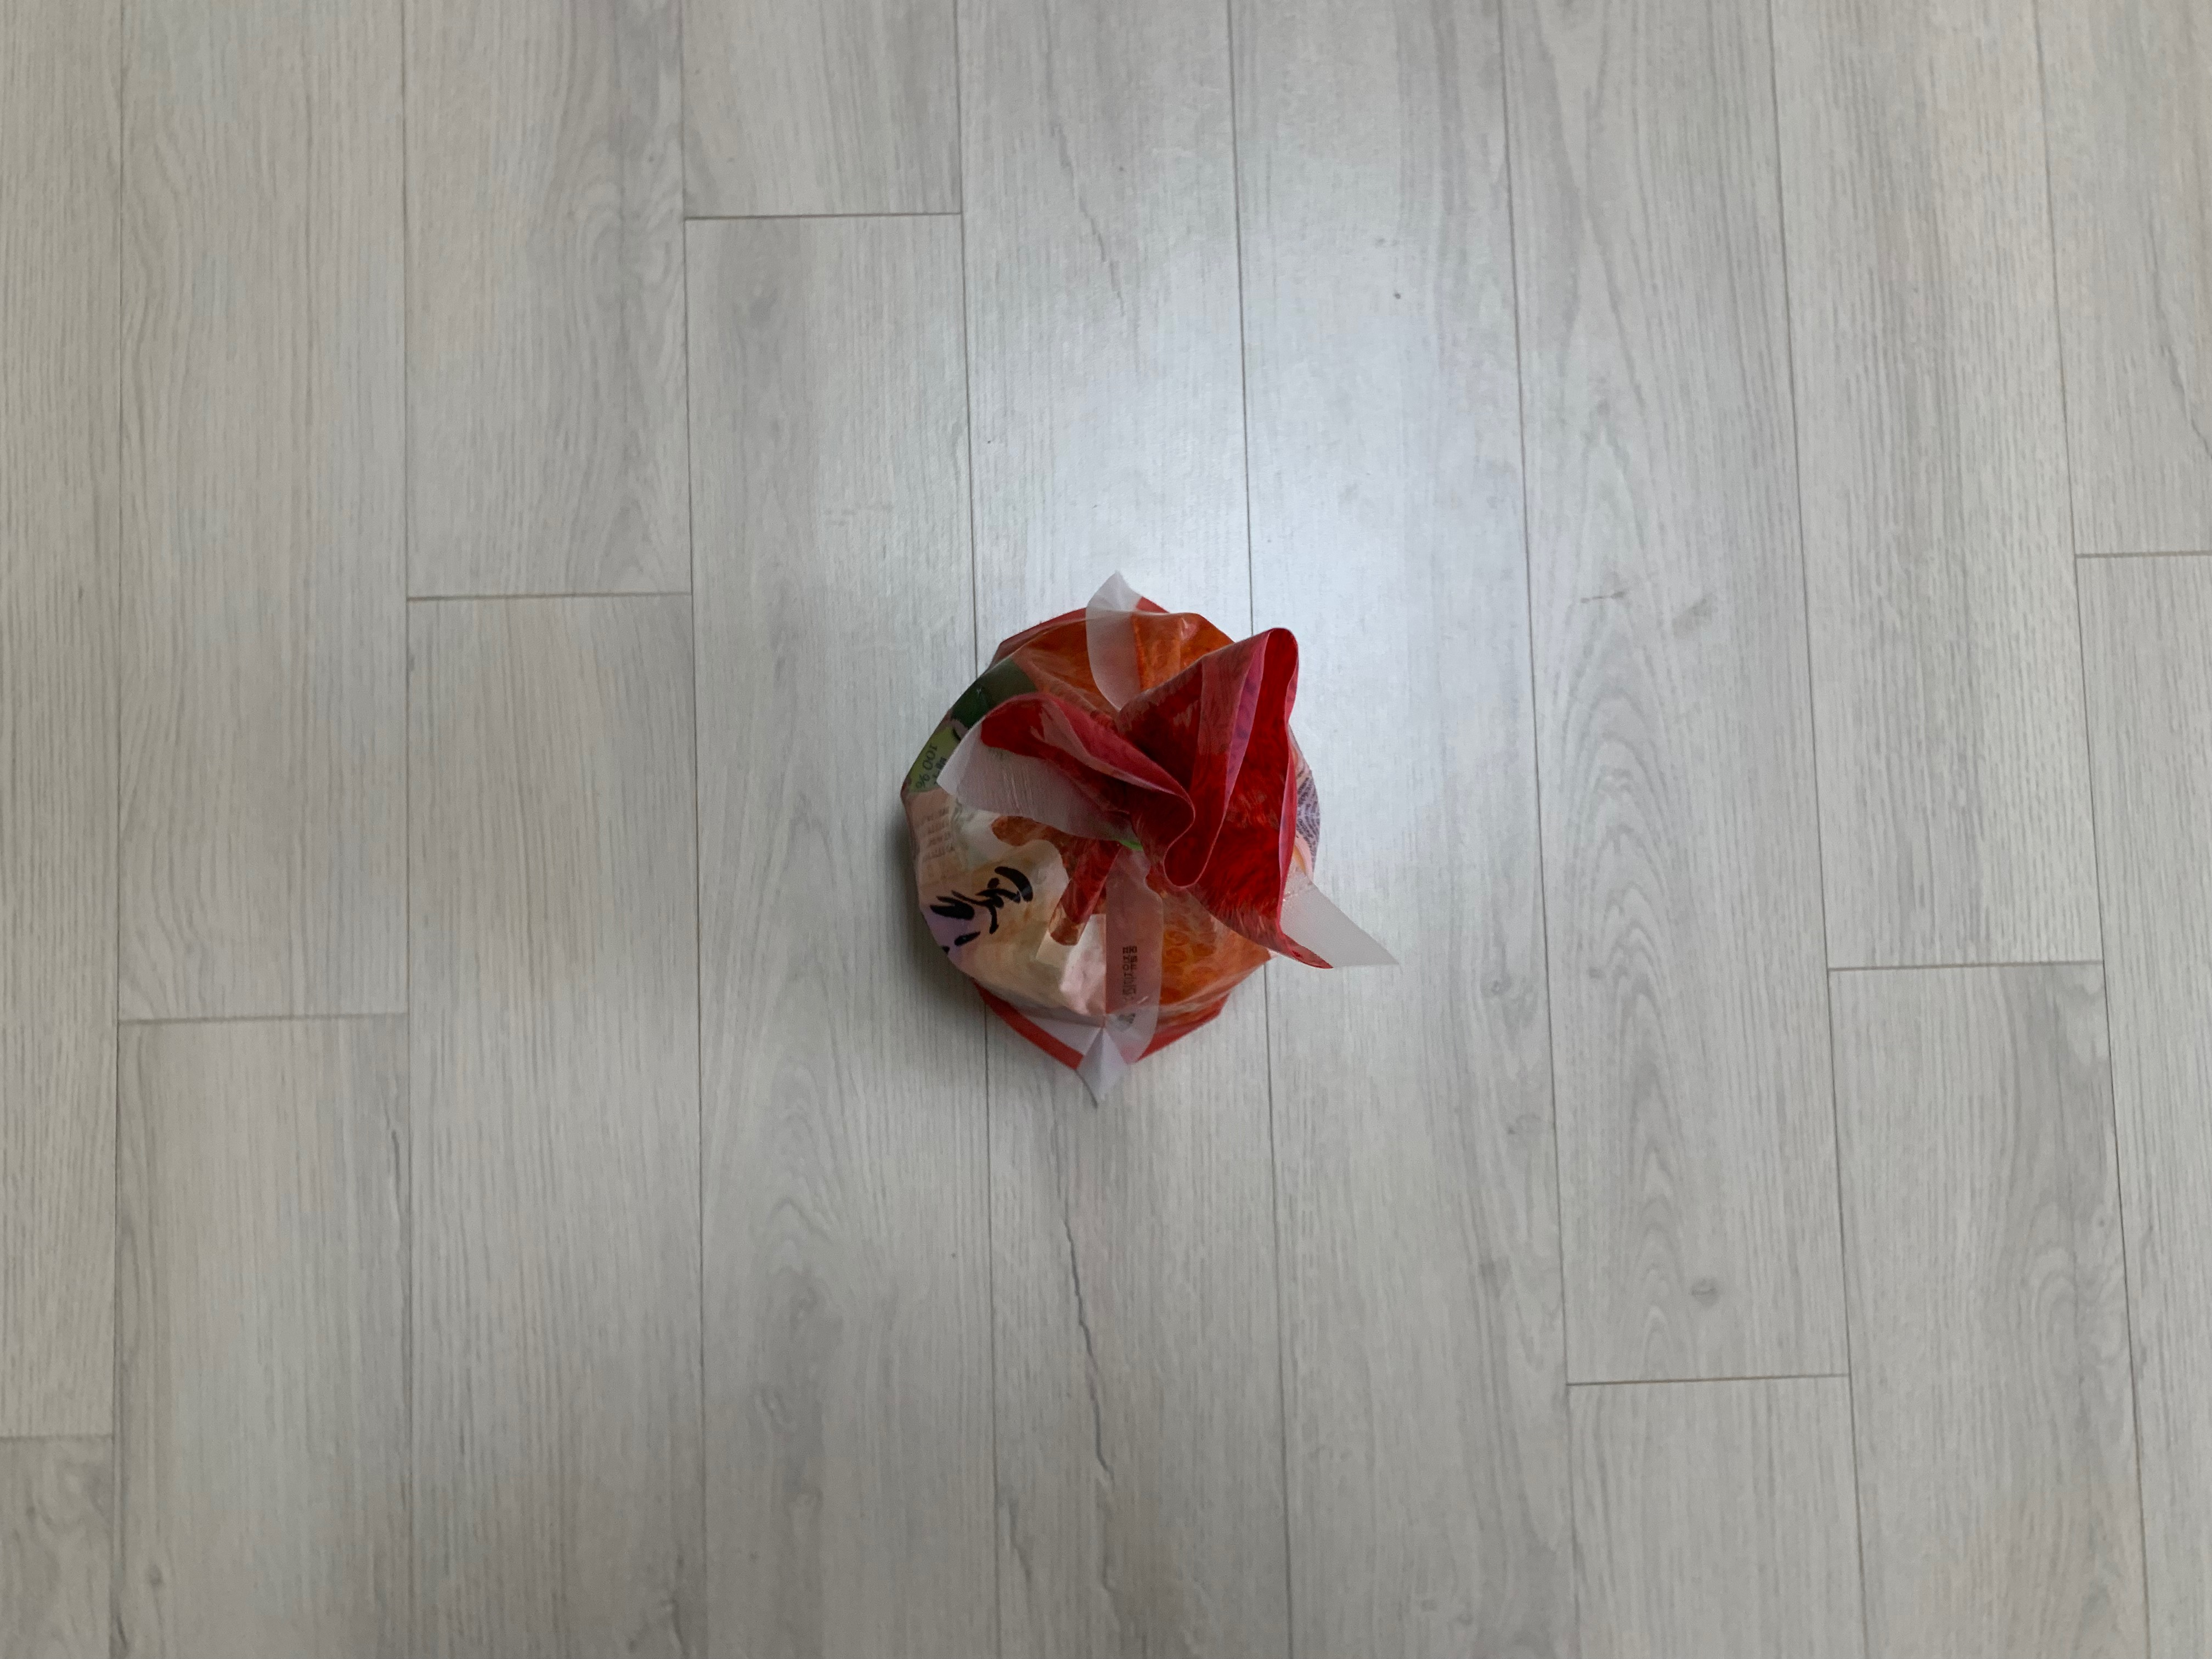kimchi: (904, 599, 1324, 1072)
